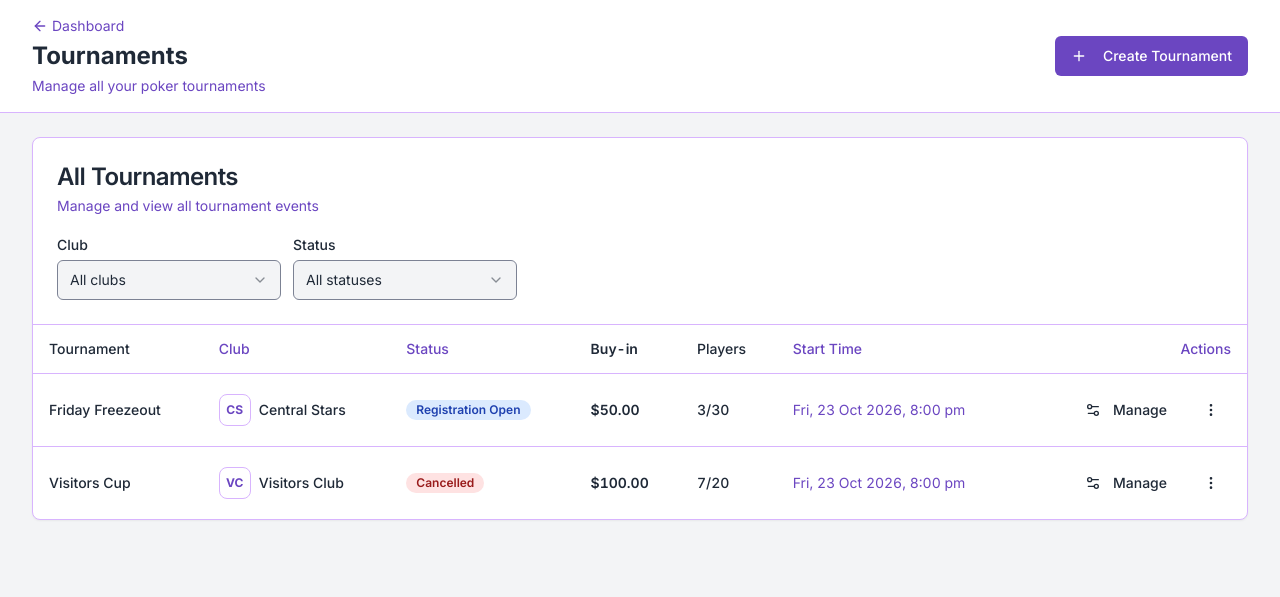
Test case: TournamentsListPage › filters by club and status on the server
Expected: the row with test id "tournament-row-t1" is shown, [33, 374, 1247, 446]
Click the dropdown with test id "club-filter" at point(169, 280), box [57, 260, 281, 300]
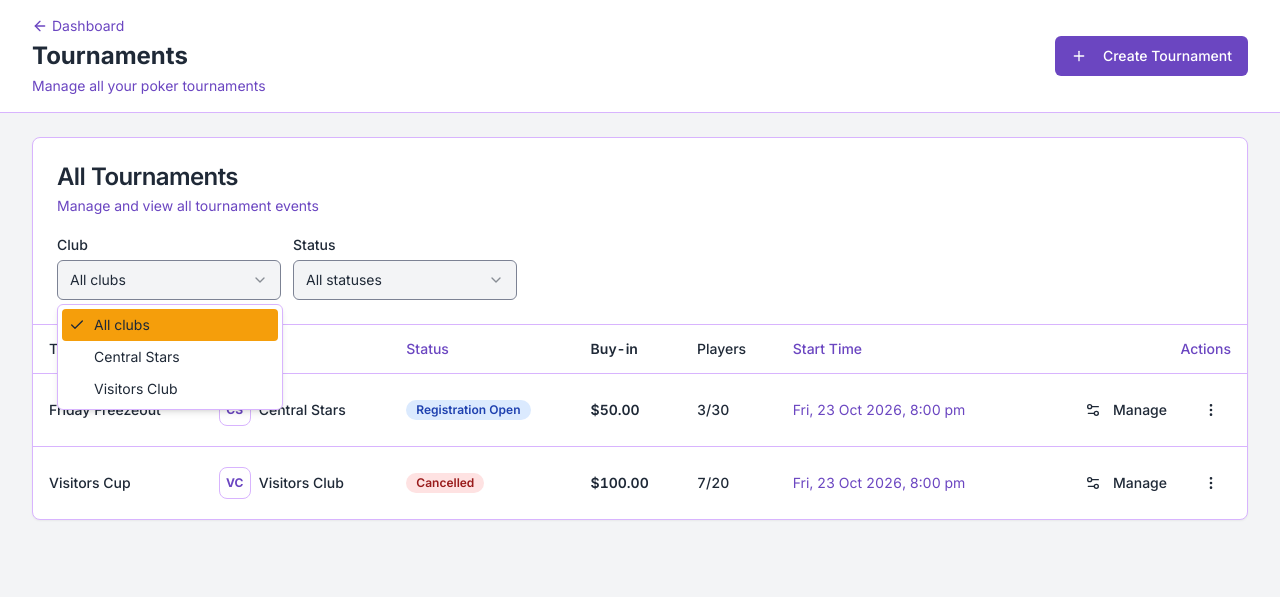
Click the option "Central Stars" at point(137, 356), box [94, 348, 180, 365]
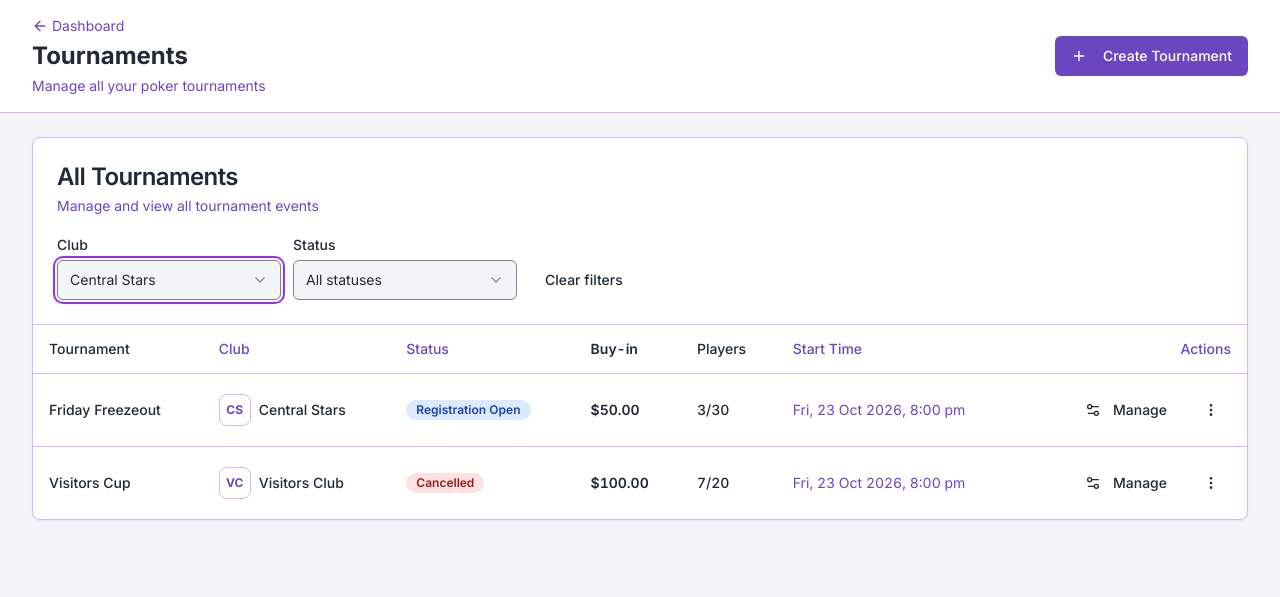
Click the dropdown with test id "status-filter" at point(405, 280), box [293, 260, 517, 300]
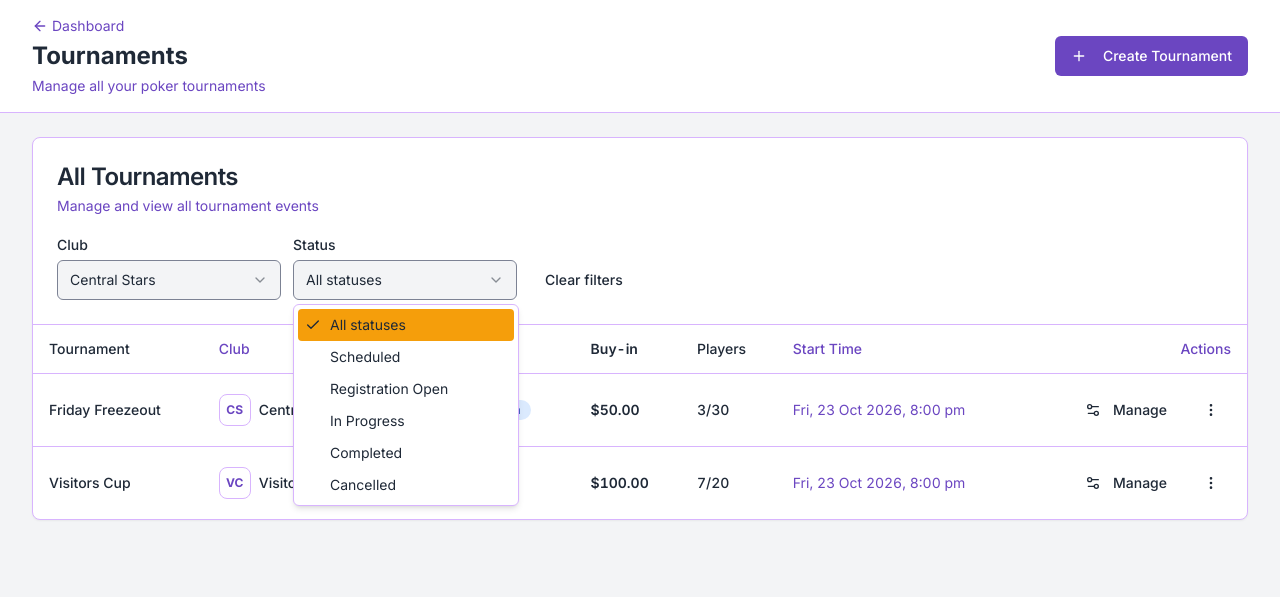
Click the option "Completed" at point(366, 452), box [330, 444, 402, 461]
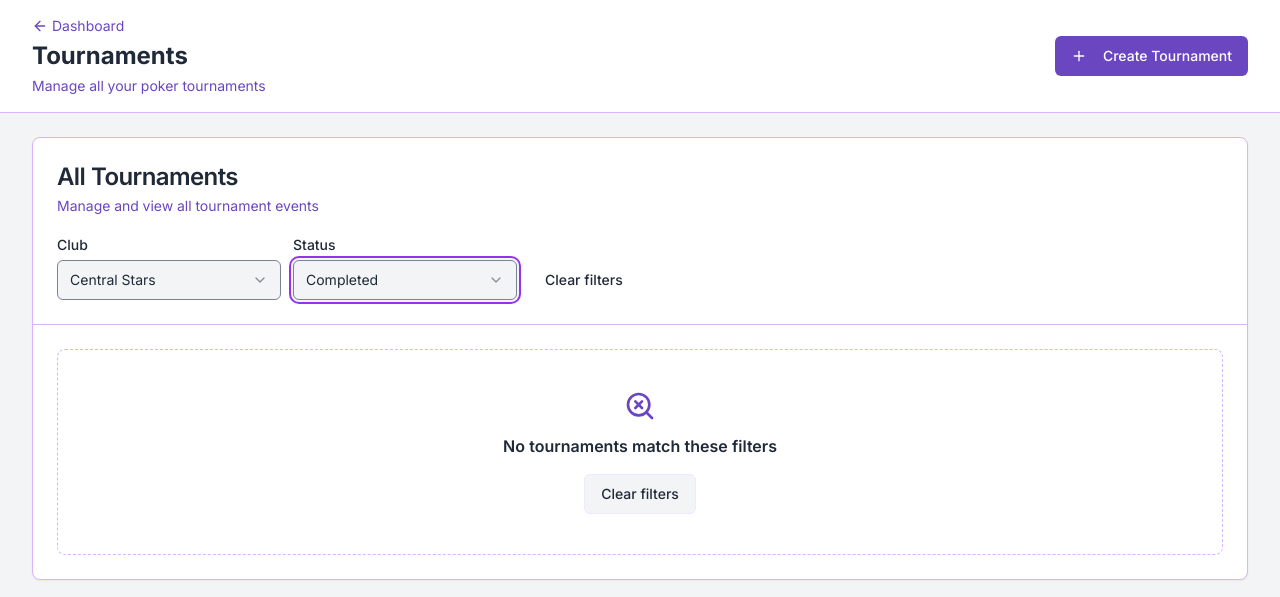
Result: the heading "No tournaments match these filters" is shown at [503, 434, 777, 458]
Click the button "Clear filters" below "Status" at point(584, 280), box [529, 260, 639, 300]
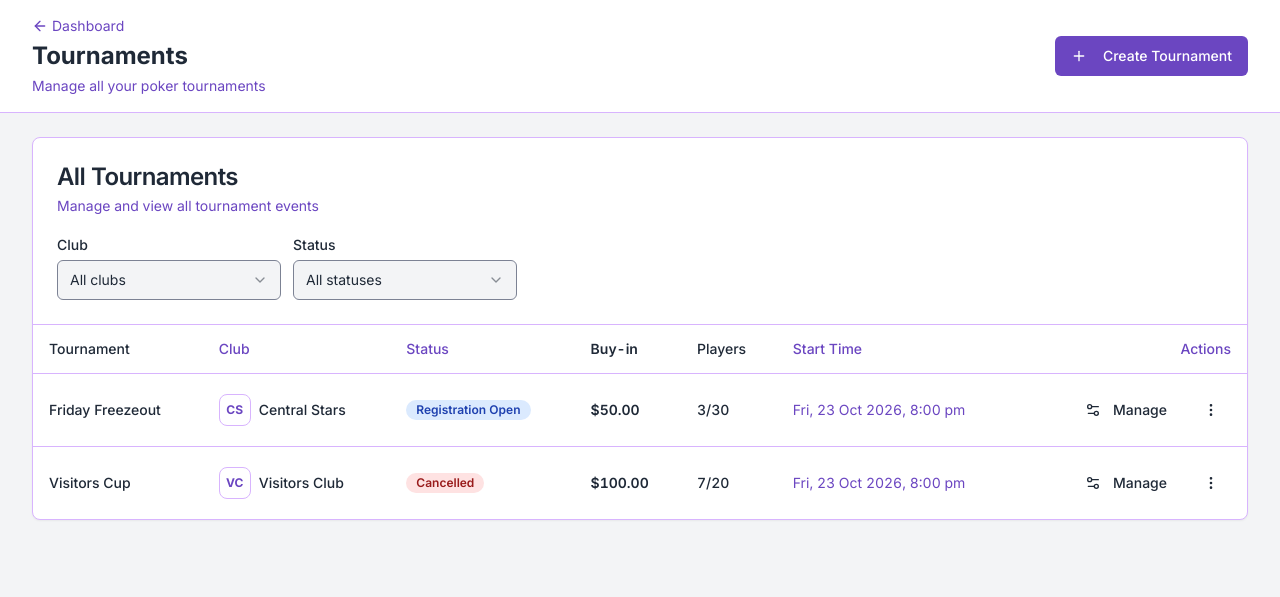
Result: the row with test id "tournament-row-t1" is shown at [33, 374, 1247, 446]
